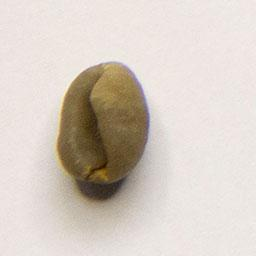peaberry: (54, 58, 153, 188)
